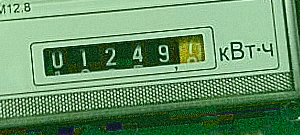0: (48, 48, 64, 69)
1: (75, 45, 89, 67)
2: (100, 44, 118, 67)
4: (129, 41, 144, 63)
7: (183, 34, 197, 55)
9: (155, 41, 170, 63)
screen: (25, 21, 220, 88)
